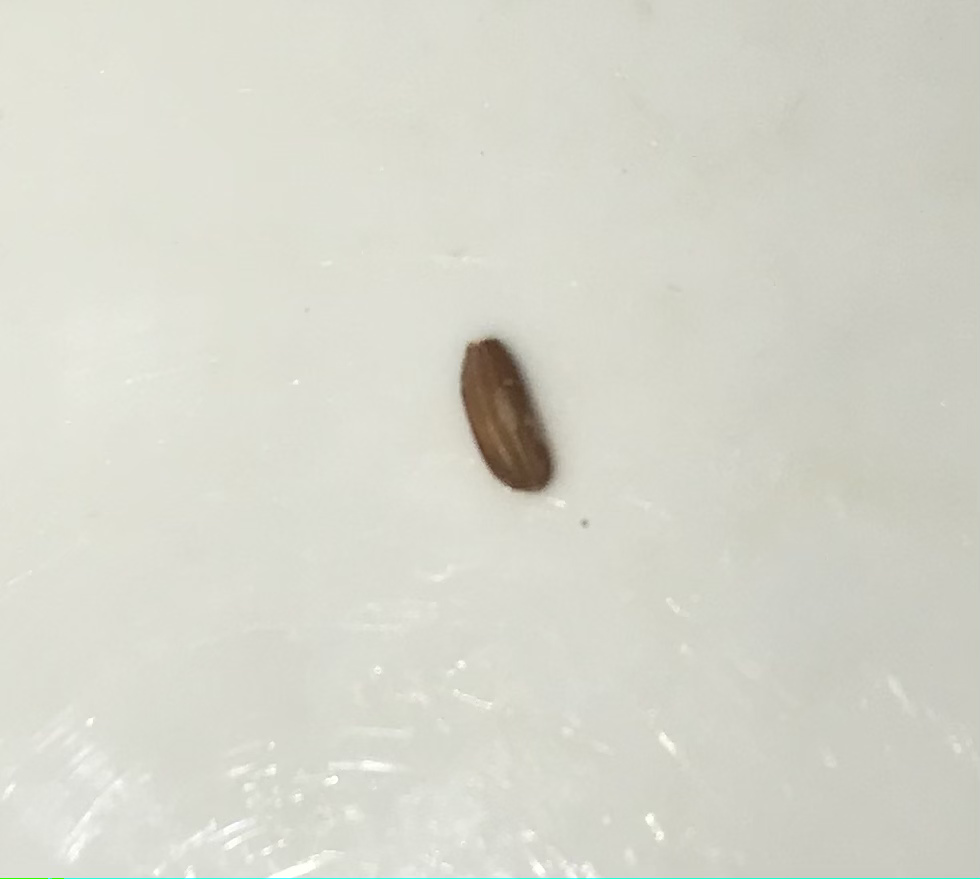Gao Lut Do: (457, 339, 560, 495)
